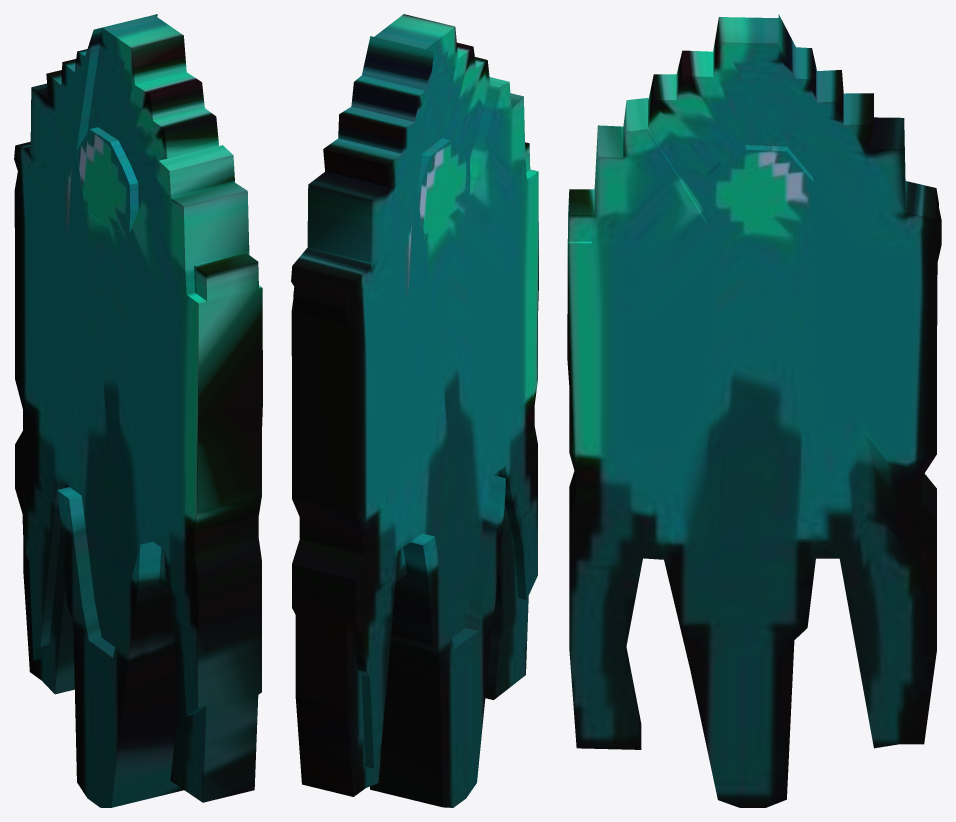
The model's file is rocket-green.glb.
The picture shows the model from 3 angles, left to right: view 1: azimuth 30°, elevation 25°; view 2: azimuth 150°, elevation 25°; view 3: azimuth 270°, elevation 25°; orthographic projection.
Parts seen in each view (by area): view 1: Plane.003; view 2: Plane.003; view 3: Plane.003.
Boxes of the visible parts, x1,y1,x2,y2 form: Plane.003: (14, 14, 262, 807); Plane.003: (291, 14, 538, 807); Plane.003: (567, 14, 941, 807).
Bounding box in the file's own units: 0.4953 × 4.36 × 1.93.
Materials: 1 (1 with a texture image).
